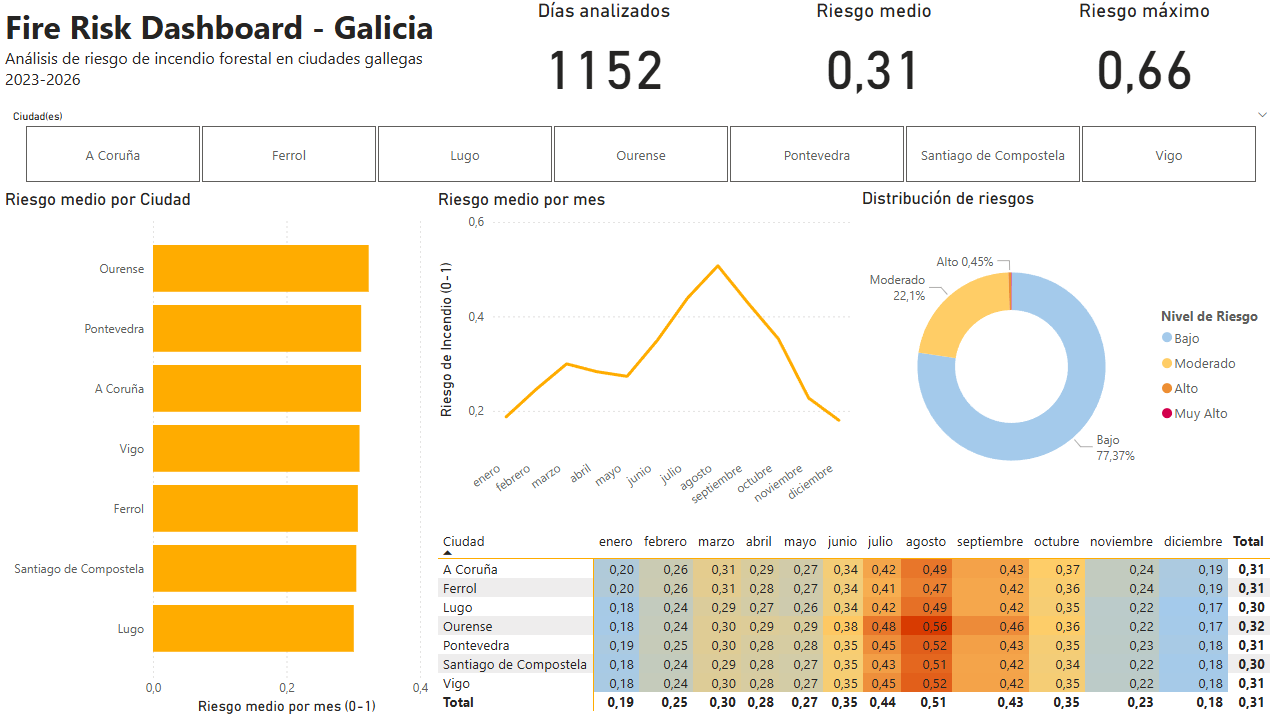

The page's visual inventory and layout, read from the dashboard file:
{"tool":"powerbi","page":{"name":"Página 1","canvas":[1280,720],"ordinal":0},"visuals":[{"type":"lineChart","title":"Riesgo medio por mes","fields":{"Category":["Consulta1.time.Variación.Jerarquía de fechas.Año","Consulta1.time.Variación.Jerarquía de fechas.Trimestre","Consulta1.time.Variación.Jerarquía de fechas.Mes","Consulta1.time.Variación.Jerarquía de fechas.Día"],"Y":["Avg(Consulta1.risk_index)"]},"box":[432.7,189.6,423.6,337.9],"z":0},{"type":"clusteredBarChart","title":"Riesgo medio por Ciudad","fields":{"Category":["Consulta1.location"],"Y":["Avg(Consulta1.risk_index)"]},"box":[0,189.5,432.5,530.5],"z":1000},{"type":"donutChart","title":"Distribución de riesgos","fields":{"Category":["Consulta1.Nivel de Riesgo"],"Y":["CountNonNull(daily_risk.time)"]},"box":[857,189,423,338],"z":2000},{"type":"pivotTable","fields":{"Rows":["Consulta1.location"],"Columns":["Consulta1.time.Variación.Jerarquía de fechas.Año","Consulta1.time.Variación.Jerarquía de fechas.Trimestre","Consulta1.time.Variación.Jerarquía de fechas.Mes","Consulta1.time.Variación.Jerarquía de fechas.Día"],"Values":["Avg(Consulta1.risk_index)"]},"box":[432.8,527.2,847.2,192.6],"z":3000},{"type":"textbox","box":[0,0,478.8,106.1],"z":4000},{"type":"card","title":"Días analizados","fields":{"Values":["Count(Consulta1.time)"]},"box":[468.8,0,270.2,106.1],"z":5000},{"type":"card","title":"Riesgo máximo","fields":{"Values":["Max(Consulta1.risk_index)"]},"box":[1009.3,0,271.1,106.1],"z":6000},{"type":"card","title":"Riesgo medio","fields":{"Values":["Avg(Consulta1.risk_index)"]},"box":[739,0,270.2,106.1],"z":7000},{"type":"slicer","fields":{"Values":["Consulta1.location"]},"box":[0,106.1,1280.4,83.4],"z":8000}]}

Visuals, with their boxes in screenshot pixels (x1, y1, x2, y2), scaled from the page's 1280x720 canvas onto the 1279x718 screenshot:
"Riesgo medio por mes" lineChart: bbox=[432, 189, 856, 526]
"Riesgo medio por Ciudad" clusteredBarChart: bbox=[0, 189, 432, 717]
"Distribución de riesgos" donutChart: bbox=[856, 188, 1278, 526]
pivotTable - Consulta1.location x Consulta1.time.Variación.Jerarquía de fechas.Año: bbox=[432, 526, 1278, 717]
textbox: bbox=[0, 0, 478, 106]
"Días analizados" card: bbox=[468, 0, 738, 106]
"Riesgo máximo" card: bbox=[1009, 0, 1278, 106]
"Riesgo medio" card: bbox=[738, 0, 1008, 106]
slicer - Consulta1.location: bbox=[0, 106, 1278, 189]
